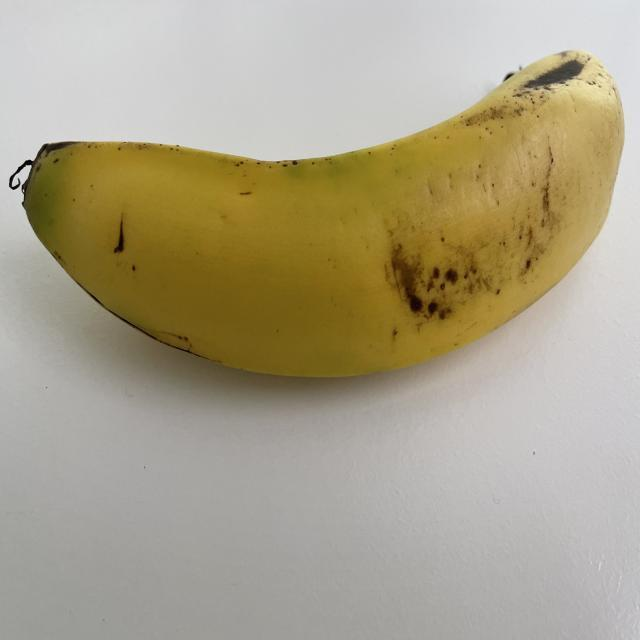Banana: (2, 44, 626, 388)
